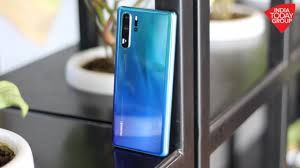huawei: (107, 2, 178, 158)
